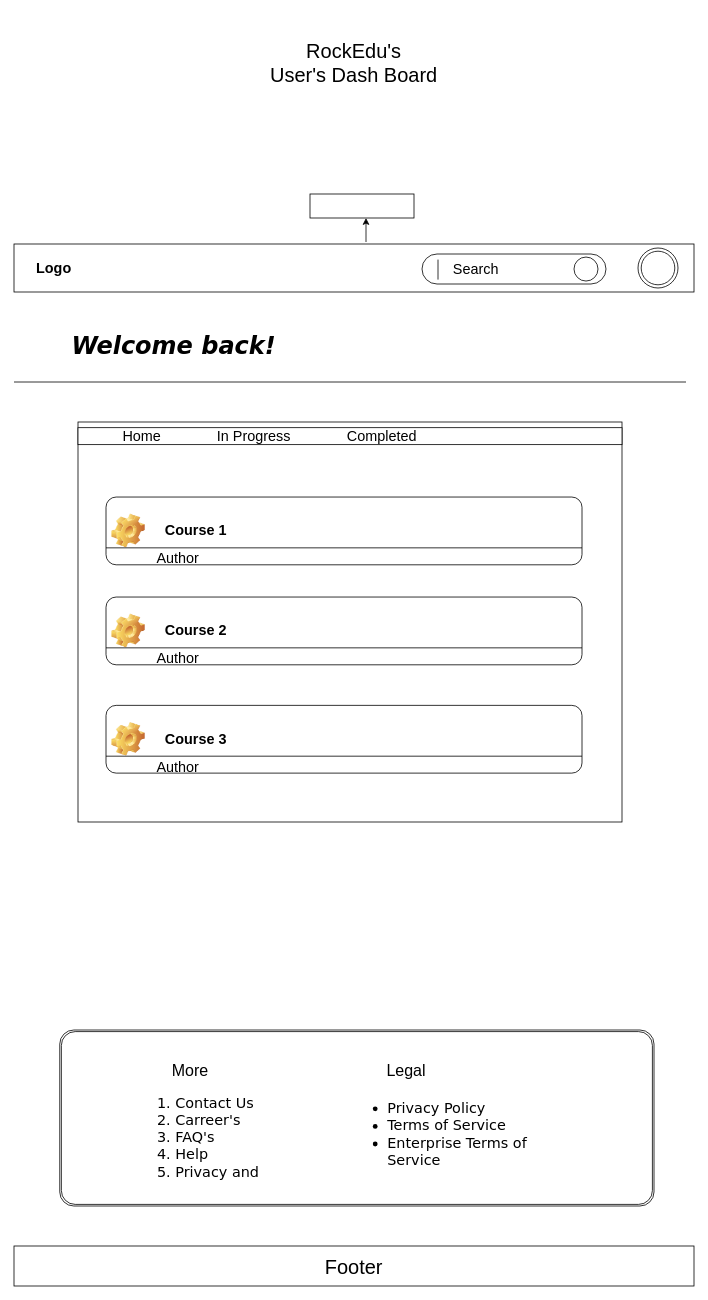
Some shapes in this 708 by 1300 pixel diagram are drawn without their labels. Here are the shapes that lost their labels. From the top down, the box of each, then its label:
(309, 193, 414, 218): Navigation Bar
(637, 247, 678, 288): User
